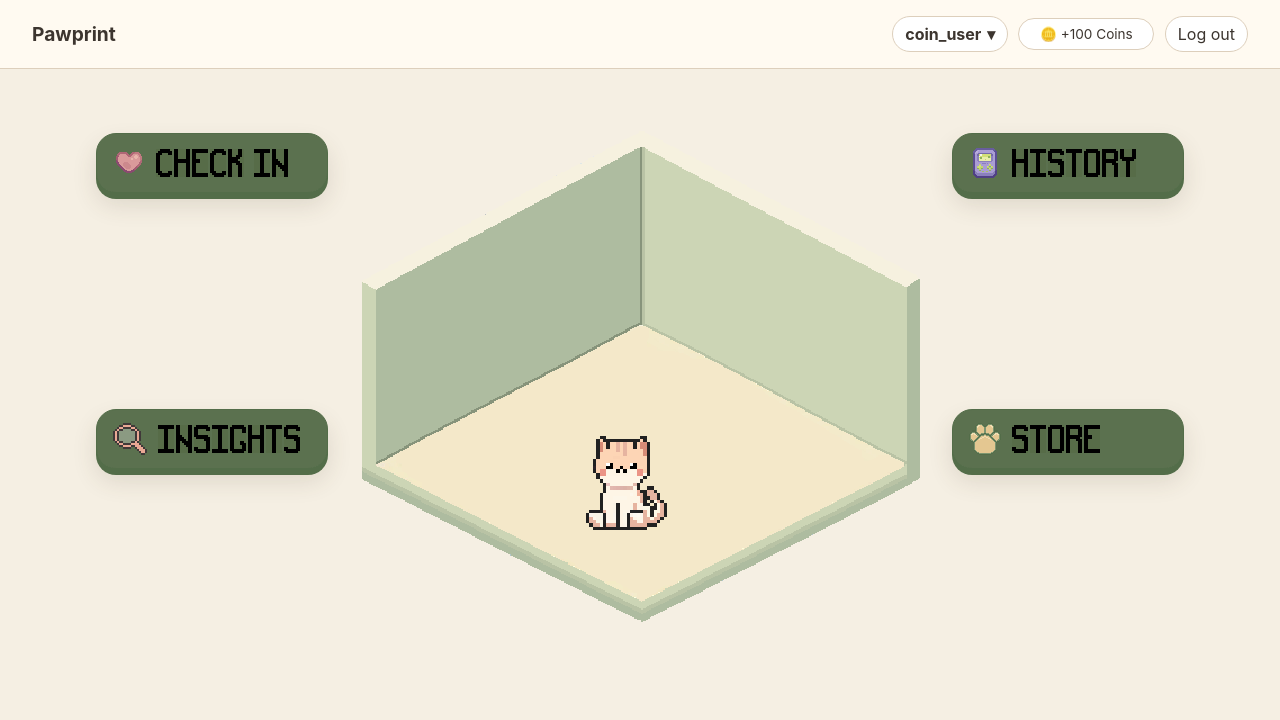
Test case: development header coins › reuses the identical UUID and amount after an uncertain result
Click the button "🪙 +100 Coins": (1086, 34) left=1018, top=18, right=1154, bottom=50
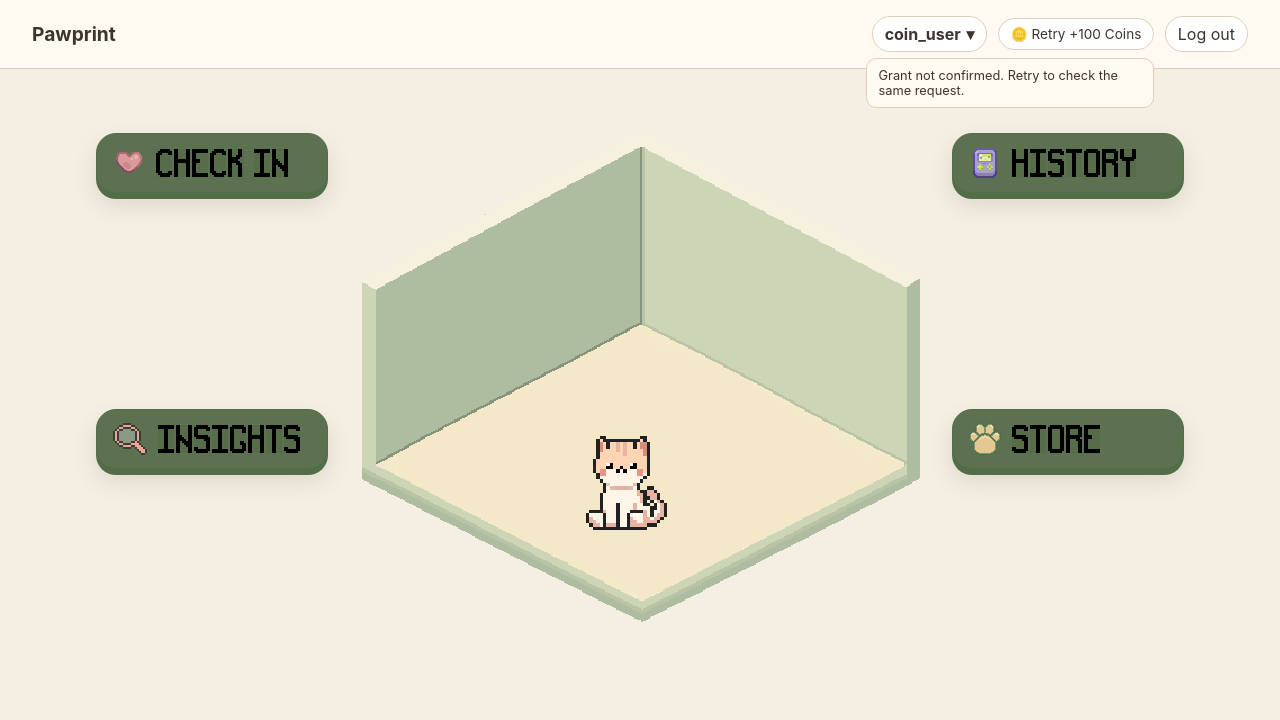
Click the button "🪙 Retry +100 Coins": (1076, 34) left=998, top=18, right=1154, bottom=50
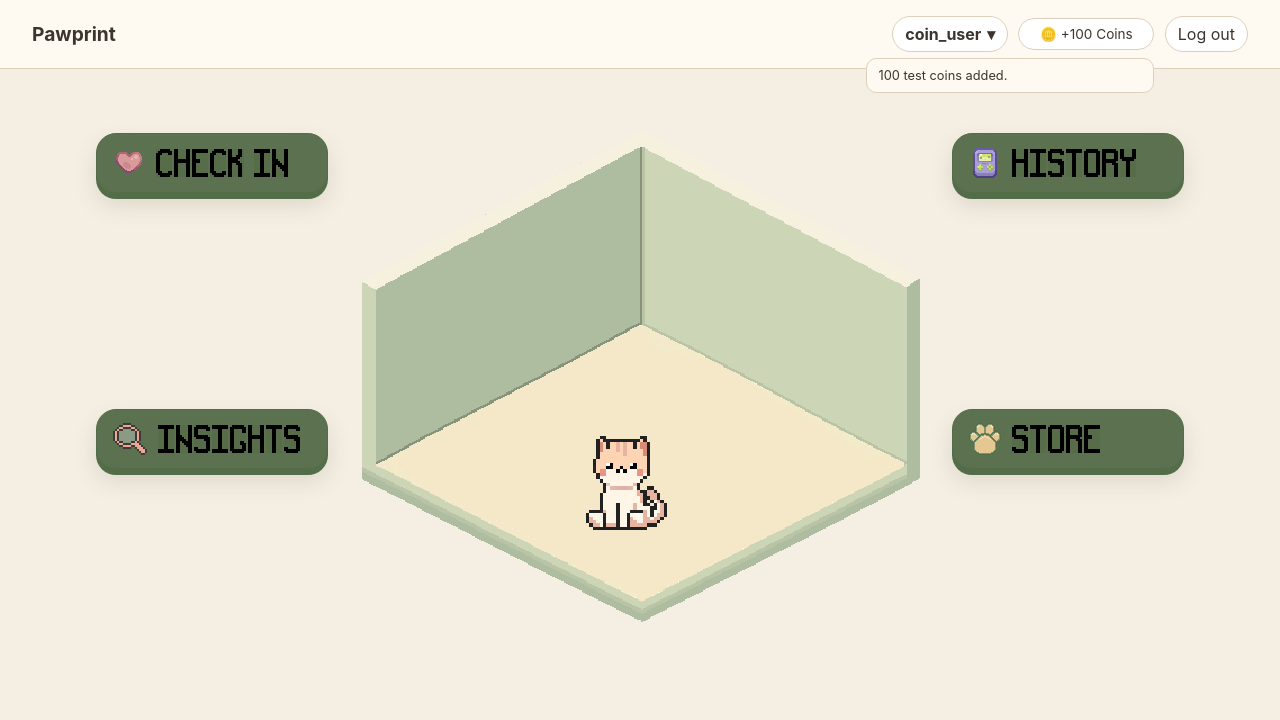
Check: the text "100 test coins added." is shown, box left=866, top=58, right=1154, bottom=93
